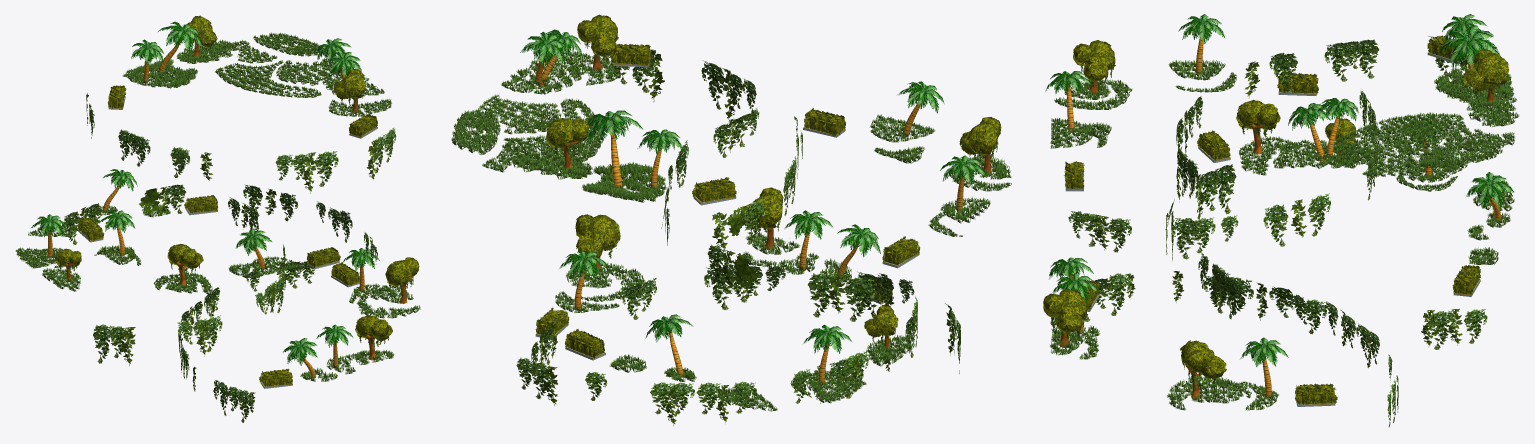
Rendered from building_vegetation.gltf.
3 views of the same model, side by side, from view 1: azimuth 30°, elevation 25°; view 2: azimuth 150°, elevation 25°; view 3: azimuth 270°, elevation 25° (orthographic). The views are drawn at different scales.
Visible parts, largest first — view 1: node_Floor4_Vegetation, node_Floor1_Vegetation, node_Floor3_Vegetation, node_Floor2_Vegetation1; view 2: node_Floor4_Vegetation, node_Floor1_Vegetation, node_Floor3_Vegetation, node_Floor2_Vegetation1; view 3: node_Floor4_Vegetation, node_Floor1_Vegetation, node_Floor3_Vegetation, node_Floor2_Vegetation1.
Boxes of the visible parts, left/top/right/bottom form: node_Floor4_Vegetation: left=86, top=15, right=396, bottom=193; node_Floor1_Vegetation: left=178, top=248, right=420, bottom=422; node_Floor3_Vegetation: left=63, top=184, right=377, bottom=294; node_Floor2_Vegetation1: left=15, top=169, right=285, bottom=365; node_Floor4_Vegetation: left=451, top=14, right=802, bottom=251; node_Floor1_Vegetation: left=516, top=187, right=917, bottom=425; node_Floor3_Vegetation: left=661, top=81, right=1011, bottom=321; node_Floor2_Vegetation1: left=531, top=265, right=960, bottom=411; node_Floor4_Vegetation: left=1176, top=14, right=1519, bottom=199; node_Floor1_Vegetation: left=1043, top=257, right=1398, bottom=427; node_Floor3_Vegetation: left=1045, top=14, right=1377, bottom=259; node_Floor2_Vegetation1: left=1165, top=118, right=1514, bottom=349.
Size of the model in its own units: 46.23 by 38.41 by 47.26.
5 materials, 4 textured.
